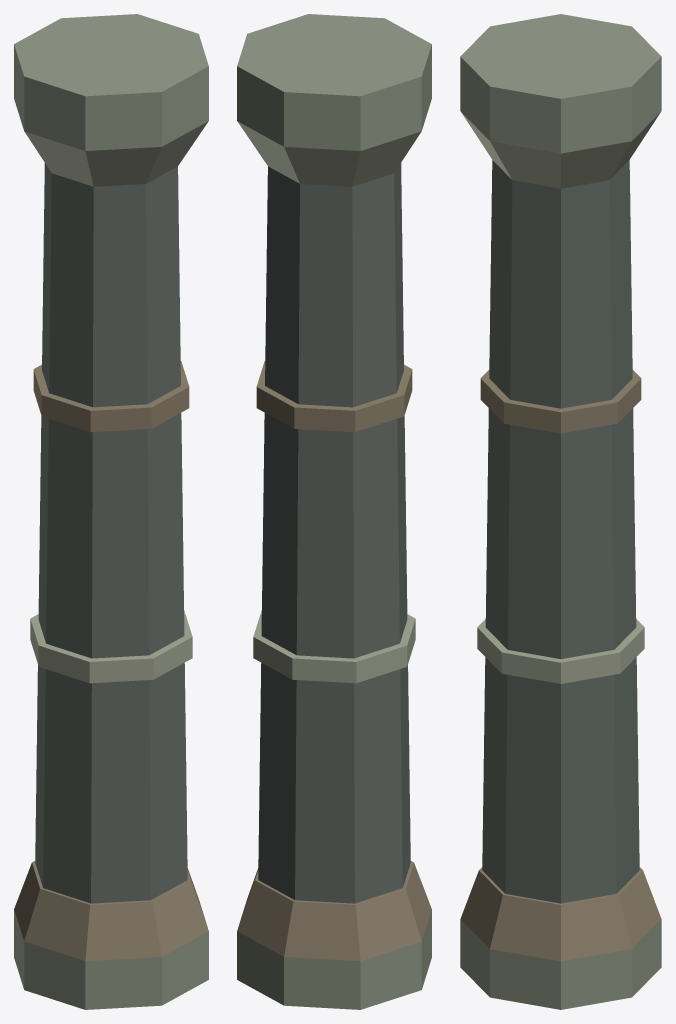
File: TW_RUIN_PILLAR_ROUND_A_LOD1.glb
3 views of the same model, side by side, from view 1: azimuth 30°, elevation 25°; view 2: azimuth 150°, elevation 25°; view 3: azimuth 270°, elevation 25° (orthographic).
Parts seen in each view (by area): view 1: TW_RUIN_PILLAR_ROUND_A; view 2: TW_RUIN_PILLAR_ROUND_A; view 3: TW_RUIN_PILLAR_ROUND_A.
Part boxes in pixels (<box>): TW_RUIN_PILLAR_ROUND_A: <box>14,14,208,1009</box>; TW_RUIN_PILLAR_ROUND_A: <box>237,14,431,1009</box>; TW_RUIN_PILLAR_ROUND_A: <box>460,14,661,1009</box>.
Size of the model in its own units: 0.6 by 3 by 0.6.
